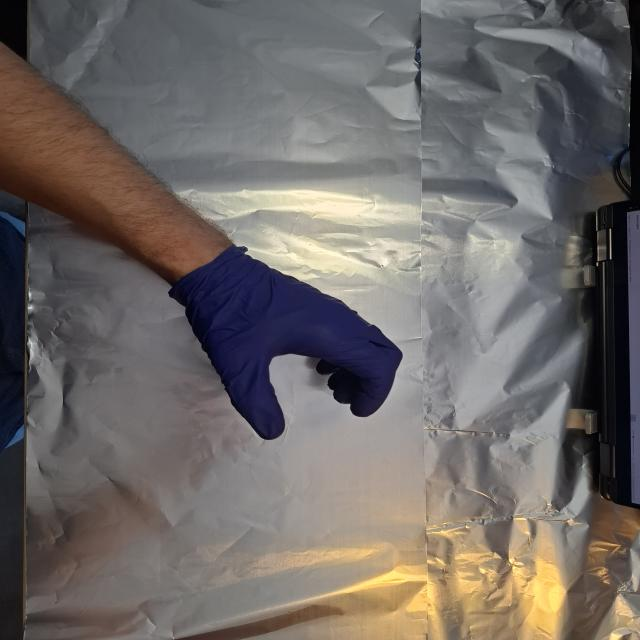glove_on: (168, 248, 407, 442)
